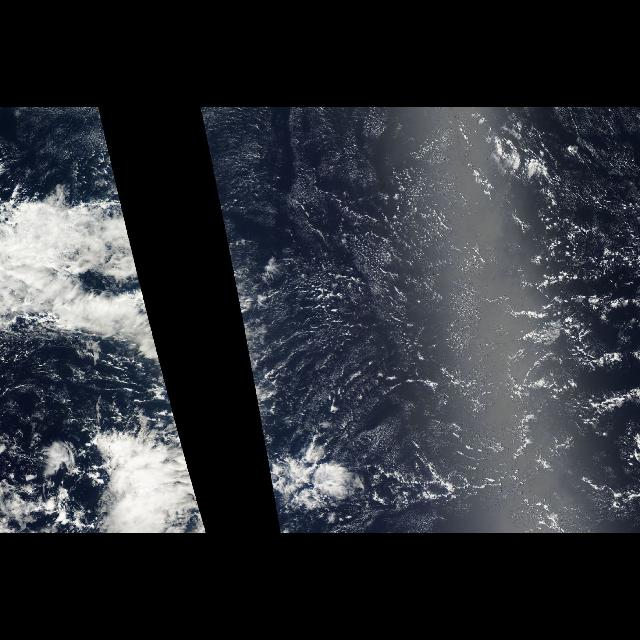Gravel: (270, 147, 550, 485)
Sugar: (202, 118, 444, 450)
